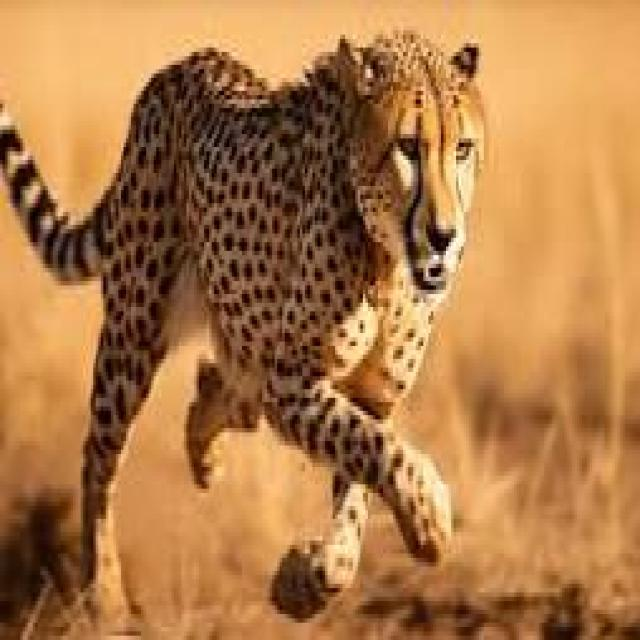Cheetah: (0, 14, 492, 618)
